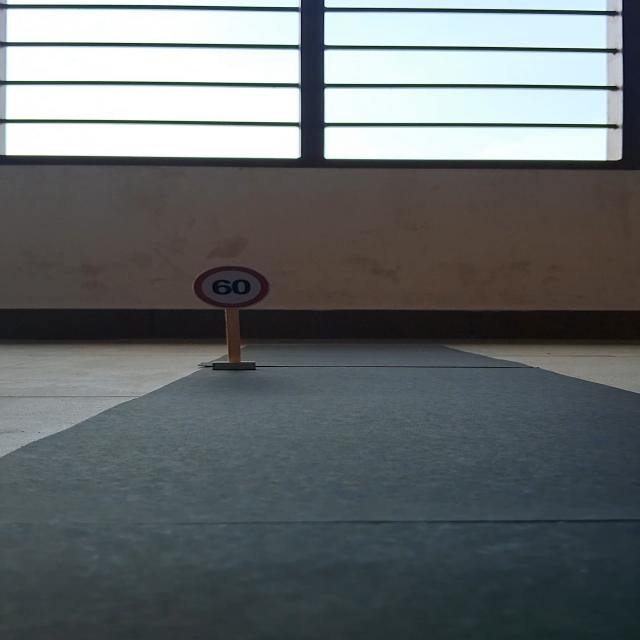Speed60: (190, 266, 270, 307)
